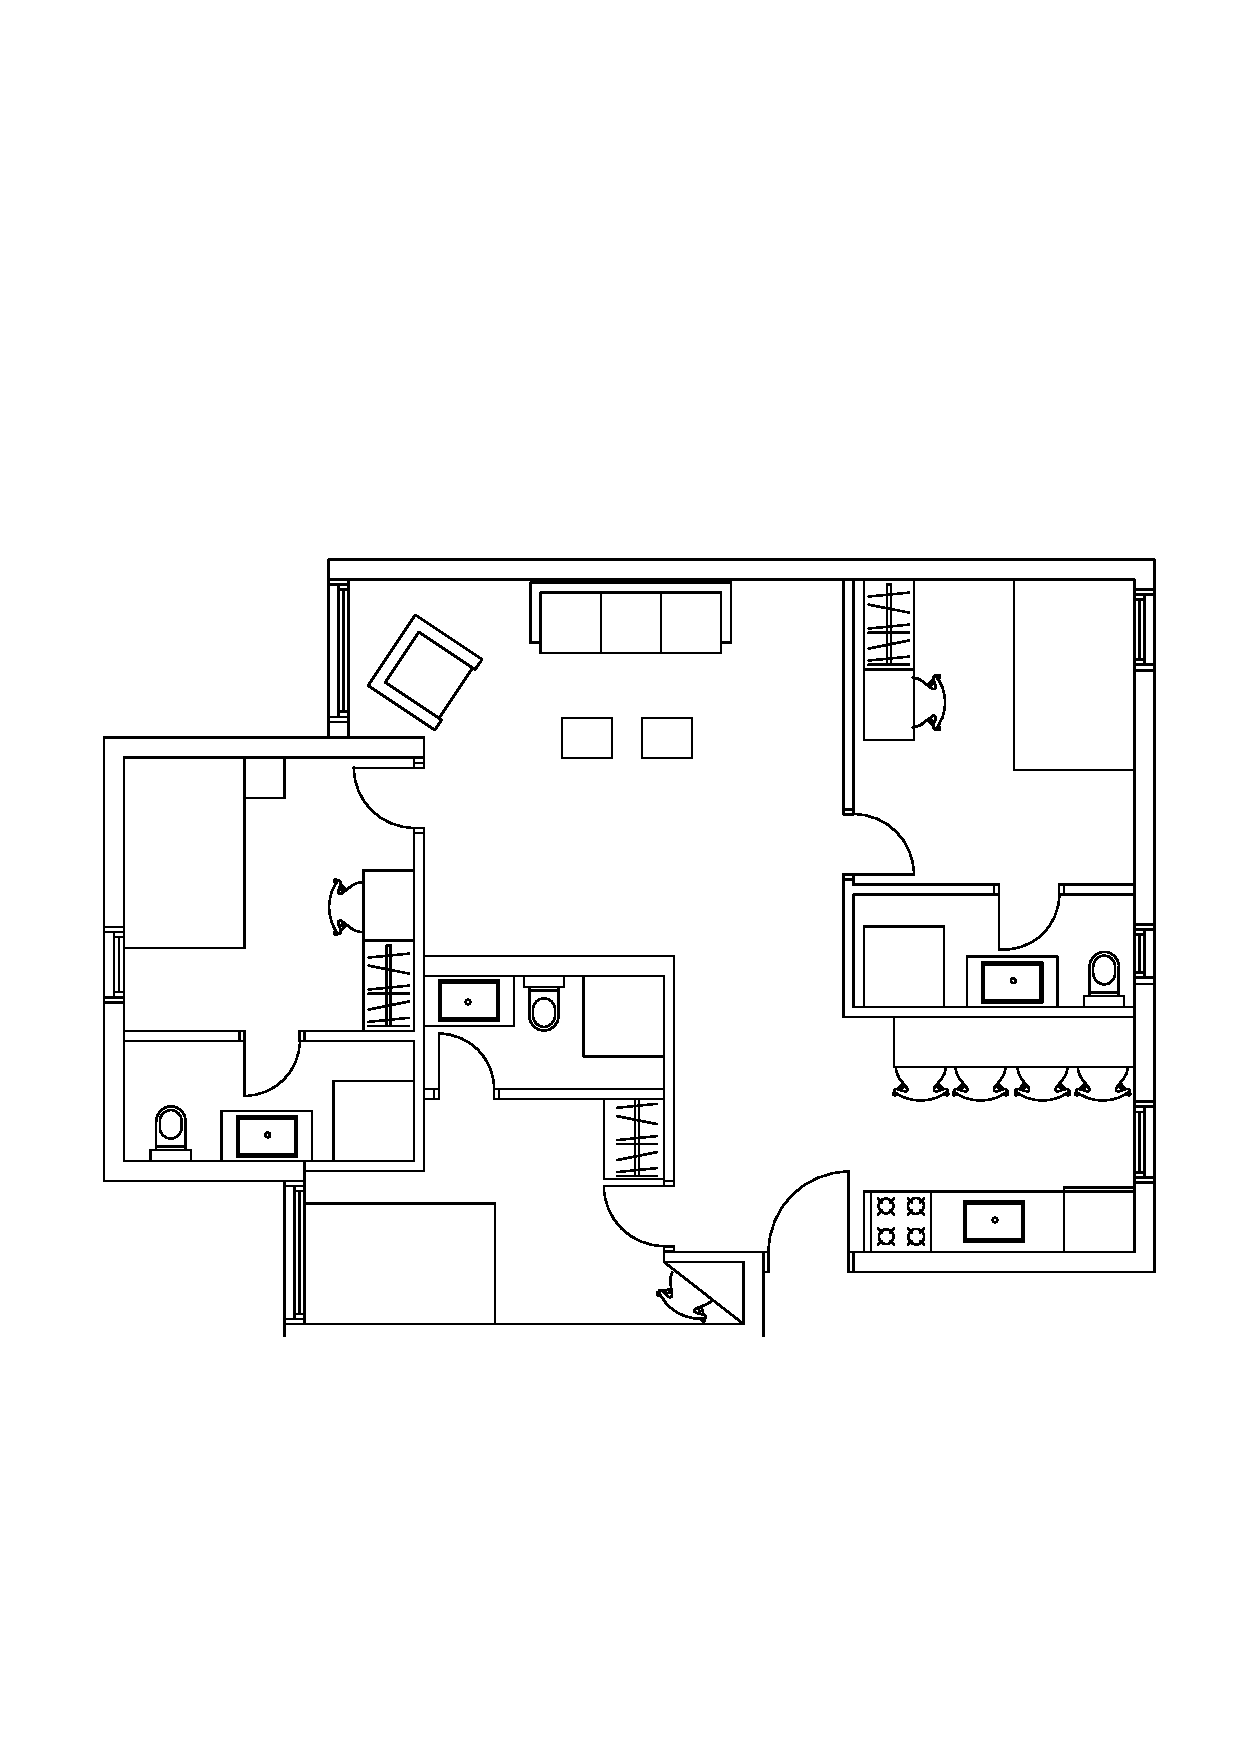door: (765, 1166, 854, 1241), (341, 764, 411, 839), (590, 1182, 660, 1255), (862, 804, 926, 880), (431, 1029, 501, 1084), (240, 1045, 305, 1103), (993, 903, 1059, 951)
wall: (330, 558, 1151, 578), (852, 1251, 1157, 1274), (103, 738, 425, 753), (1137, 670, 1155, 921)
window: (337, 588, 352, 717), (295, 1190, 306, 1317), (1134, 1104, 1146, 1178), (1134, 593, 1146, 664), (1133, 929, 1147, 977), (114, 930, 123, 994)
